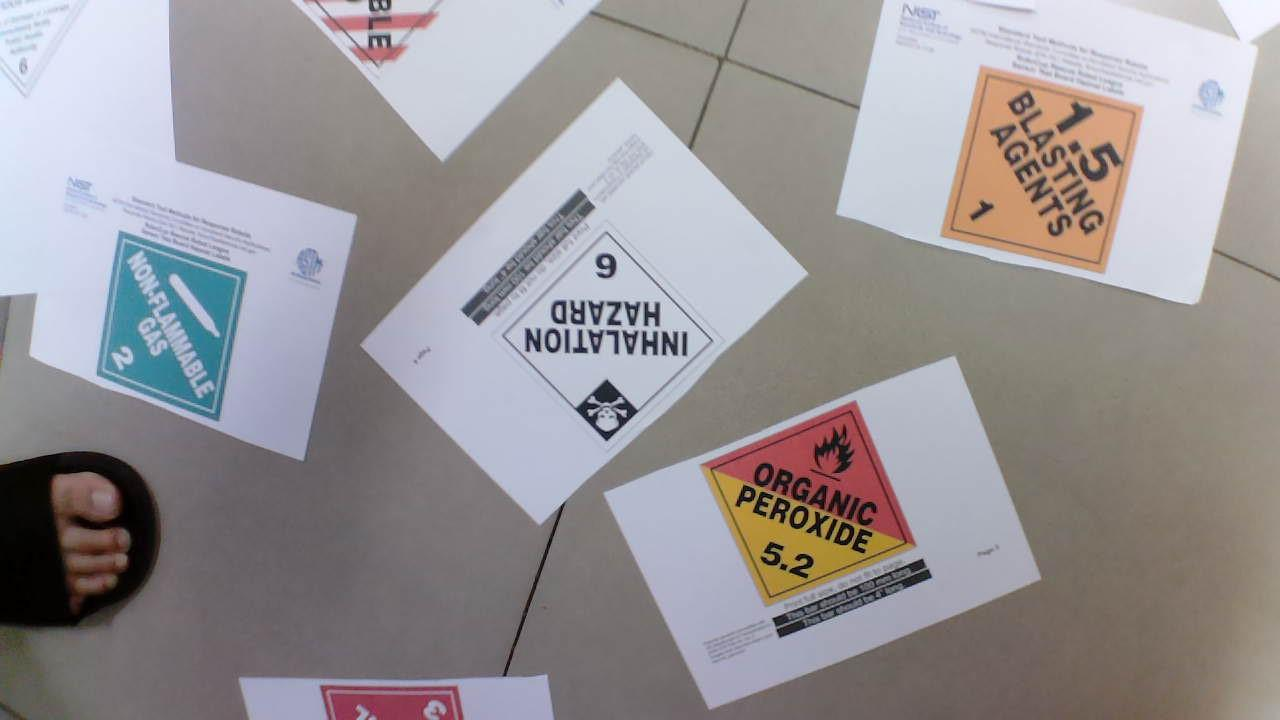explosive: (944, 60, 1154, 276)
flammable-solid: (284, 1, 458, 67)
non-flammable-gas: (77, 237, 267, 424)
organic-peroxide: (712, 402, 922, 610)
poison: (502, 230, 721, 448)
